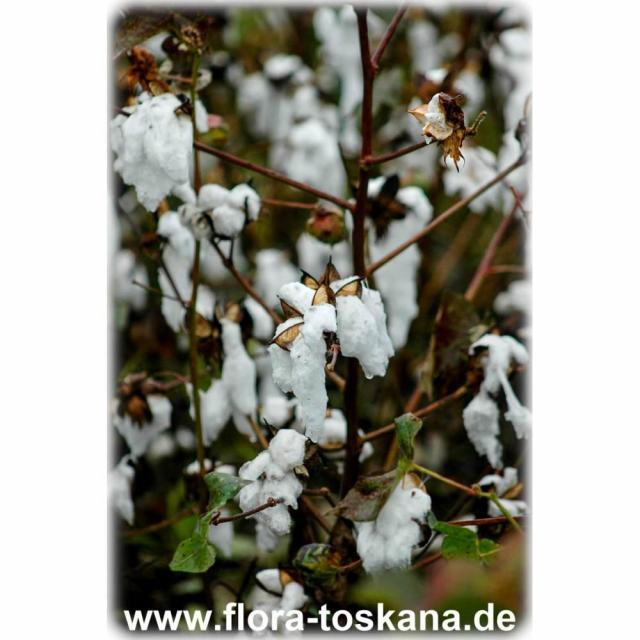Early_blight: (265, 271, 397, 451), (118, 83, 198, 223), (349, 467, 434, 578), (234, 425, 314, 540), (408, 91, 482, 158), (198, 178, 261, 238)
